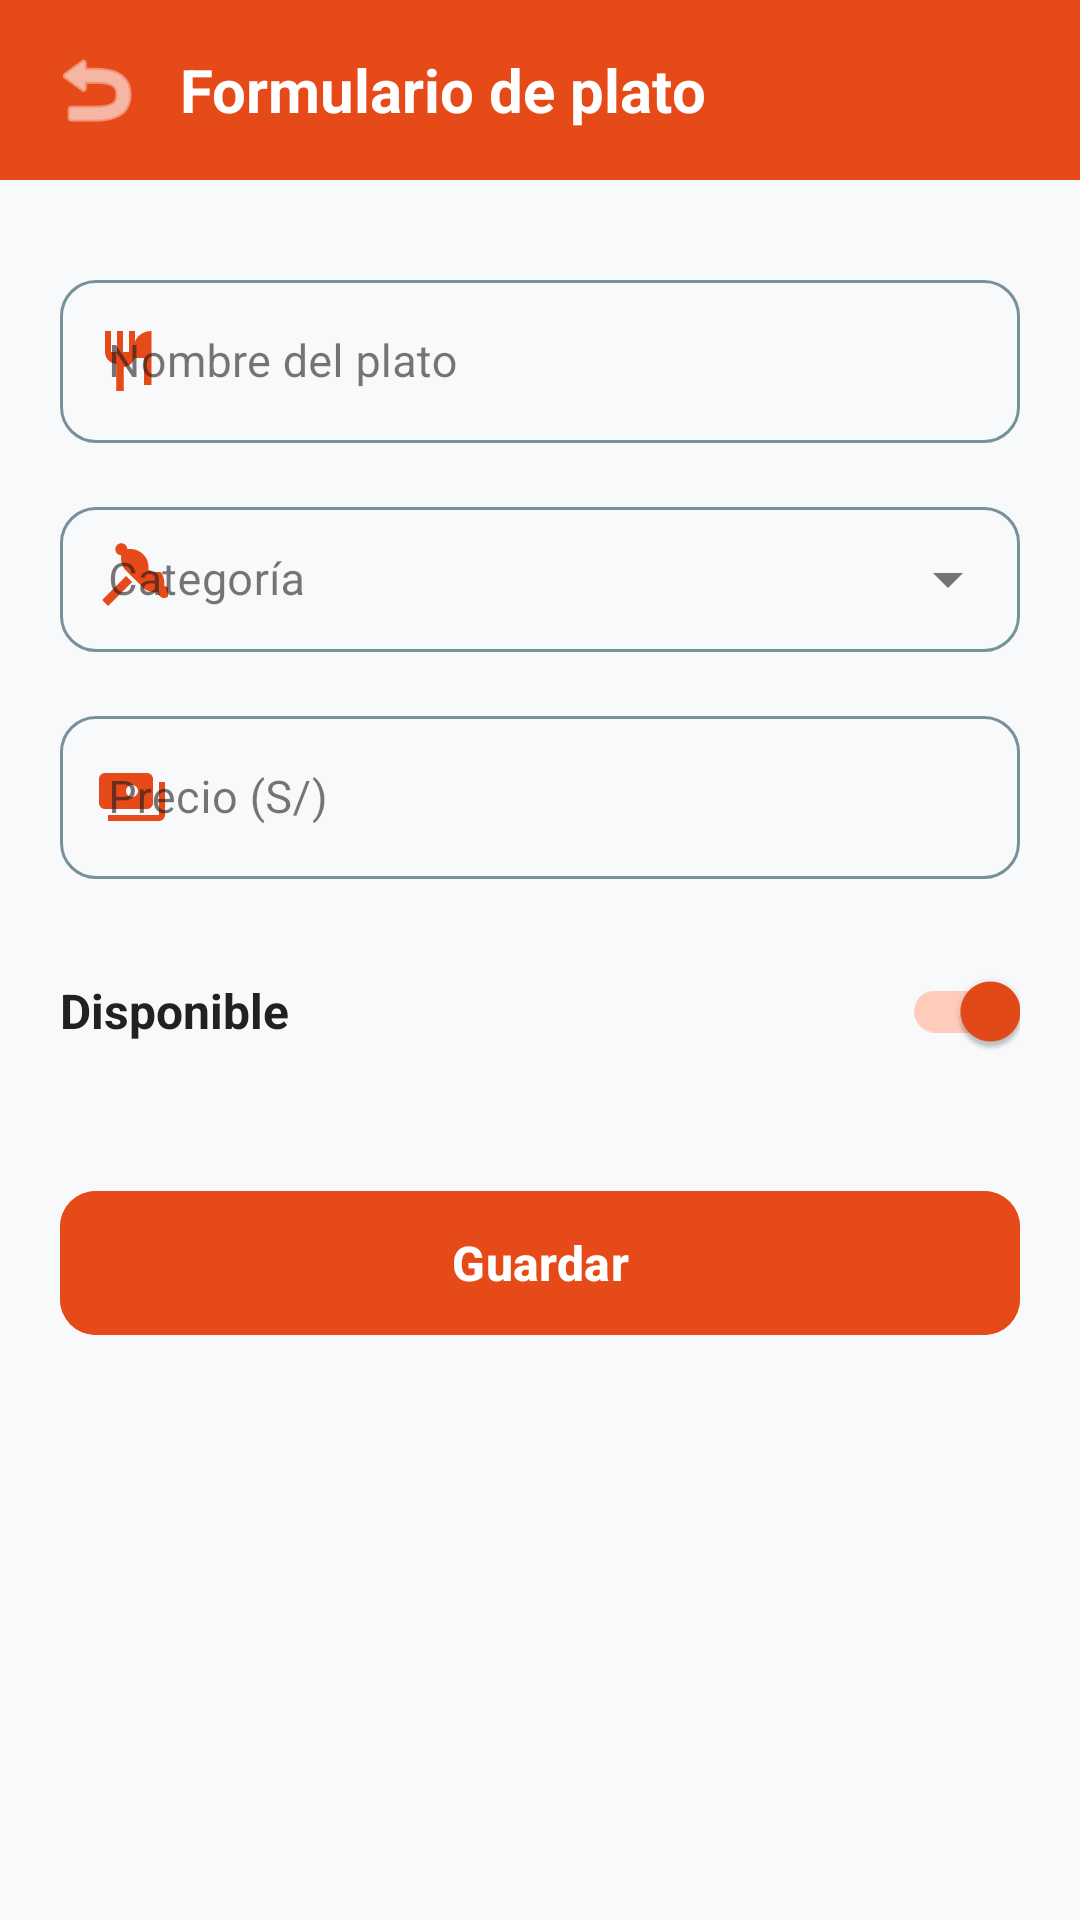

Named icons in this screenshot (1080x1920) and their bounding boxes, (x1, y1, x2, y2):
revert: (63, 59, 132, 122)
